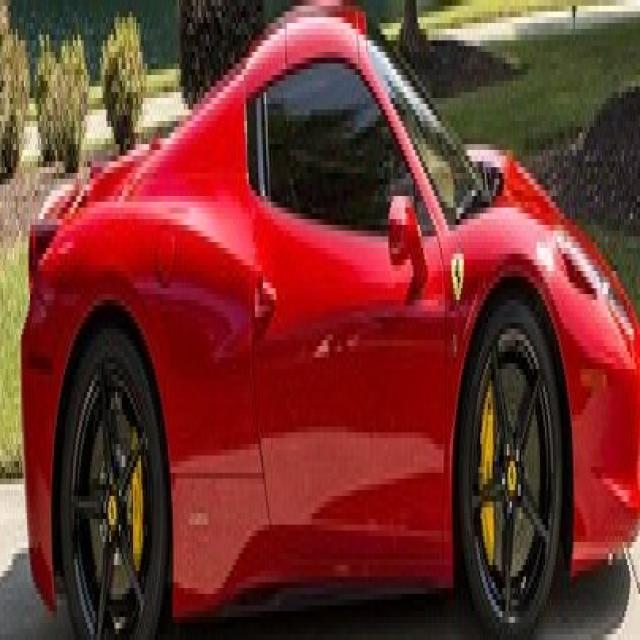red: (6, 0, 636, 640)
